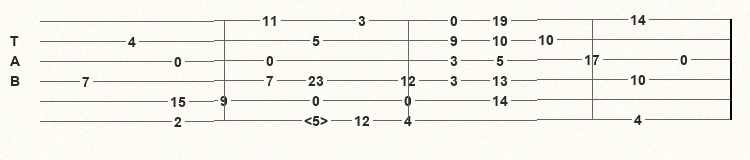0: (174, 53, 186, 67), (266, 53, 278, 67), (312, 93, 324, 107), (404, 93, 416, 107), (450, 13, 462, 27), (680, 53, 692, 67)
10: (492, 33, 512, 47), (538, 33, 558, 47), (630, 73, 650, 87)
11: (262, 13, 282, 27)
12: (354, 113, 374, 127), (400, 73, 420, 87)
13: (492, 73, 512, 87)
14: (492, 93, 512, 107), (630, 13, 650, 27)
15: (170, 93, 190, 107)
17: (584, 53, 604, 67)
19: (492, 13, 512, 27)
2: (174, 113, 186, 127)
23: (308, 73, 328, 87)
3: (358, 13, 370, 27), (450, 73, 462, 87), (450, 53, 462, 67)
4: (128, 33, 140, 47), (404, 113, 416, 127), (634, 113, 646, 127)
5: (312, 33, 324, 47), (496, 53, 508, 67)
7: (82, 73, 94, 87), (266, 73, 278, 87)
9: (220, 93, 232, 107), (450, 33, 462, 47)
harmonic: (304, 113, 332, 127)
